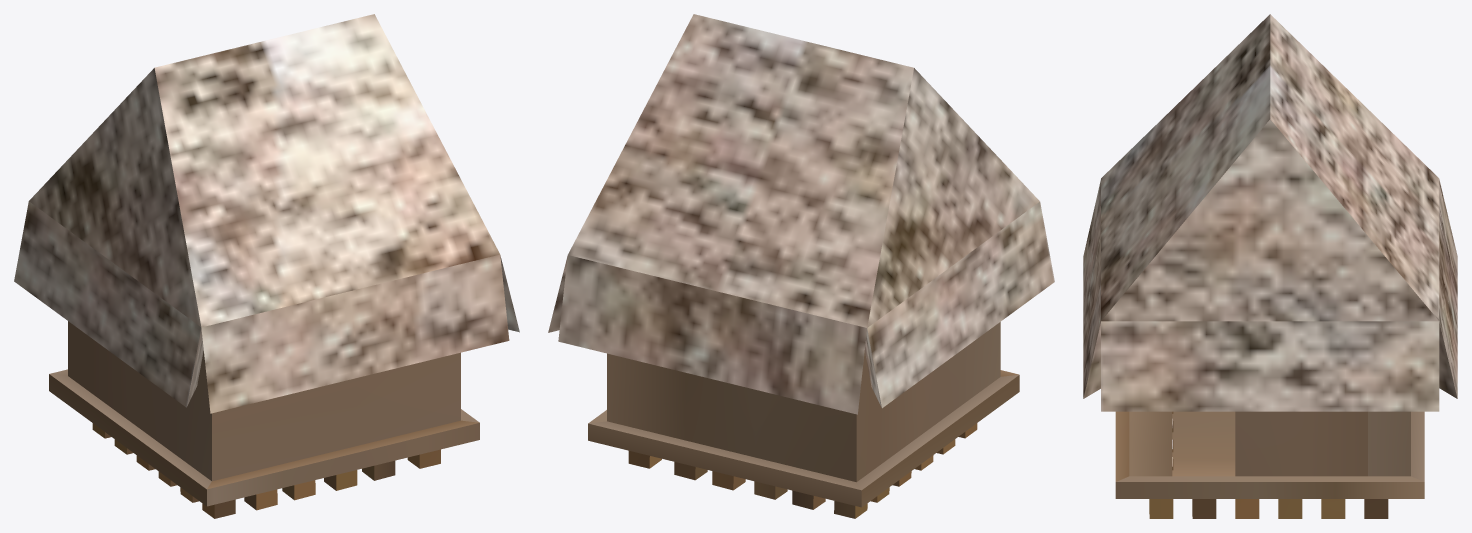
The model's file is House5.fbx.
The picture shows the model from 3 angles, left to right: view 1: azimuth 30°, elevation 25°; view 2: azimuth 150°, elevation 25°; view 3: azimuth 270°, elevation 25°; orthographic projection. The views are drawn at different scales.
Parts seen in each view (by area): view 1: House5; view 2: House5; view 3: House5.
Part boxes in pixels (x1,y1,x2,y2): House5: (14, 14, 519, 518); House5: (548, 14, 1054, 518); House5: (1083, 14, 1457, 518).
Size of the model in its own units: 877 by 1025 by 871.
Materials: 3 (3 with a texture image).
